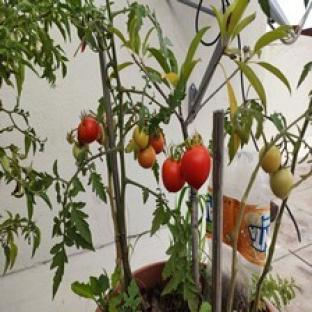Tomato: (182, 144, 210, 189), (162, 158, 185, 192), (271, 169, 293, 199), (77, 116, 98, 144), (260, 145, 281, 172), (137, 145, 155, 168), (133, 126, 149, 149), (150, 133, 164, 154), (73, 143, 89, 160), (97, 124, 105, 144)
